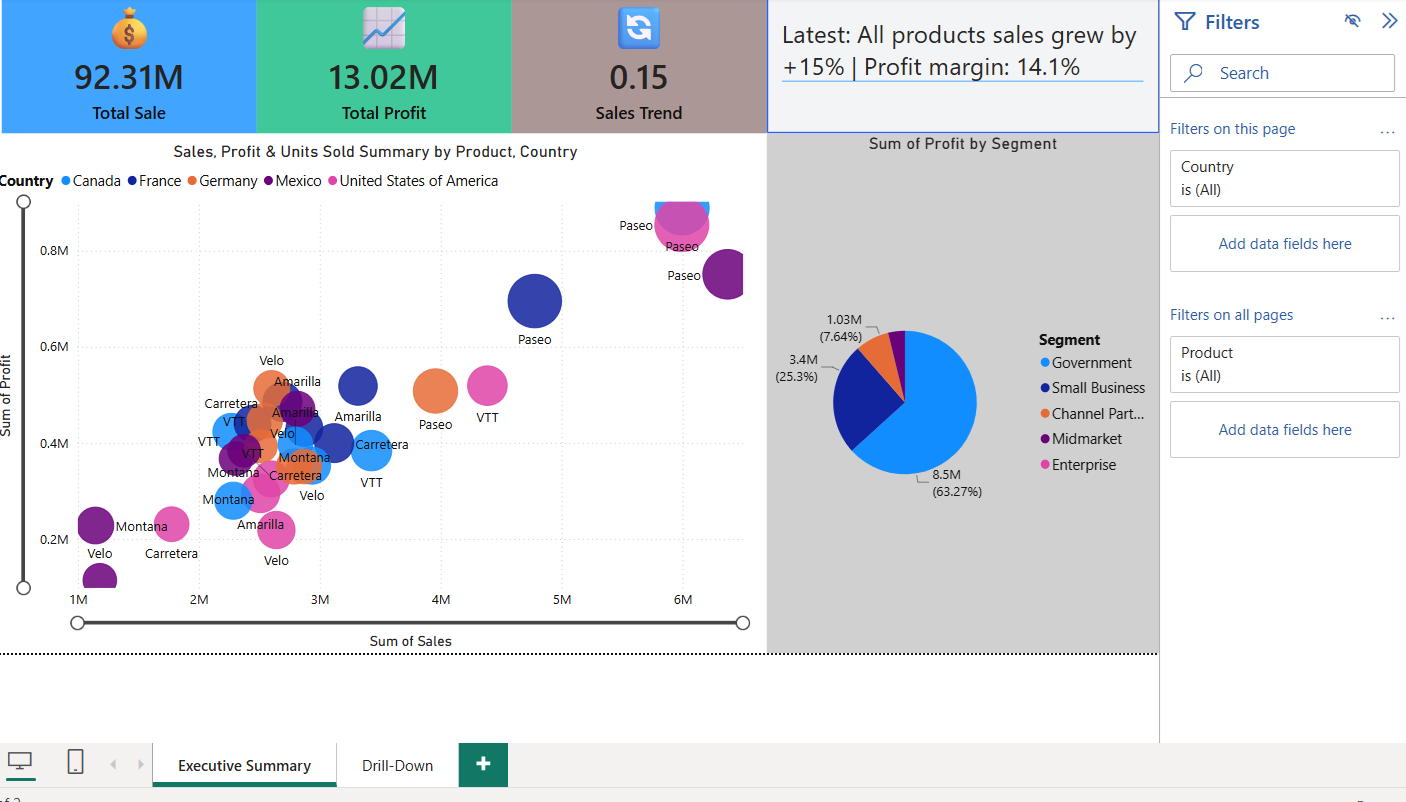

The page's visual inventory and layout, read from the dashboard file:
{"tool":"powerbi","page":{"name":"Executive Summary","canvas":[1280,720],"ordinal":0},"visuals":[{"type":"card","title":"💰","fields":{"Values":["financials.Total Sale"]},"box":[9.6,0,279.9,149.6],"z":0},{"type":"card","title":"📈","fields":{"Values":["financials.Total Profit"]},"box":[289.5,0,279.9,149.6],"z":1000},{"type":"card","title":"🔄","fields":{"Values":["financials.Sales Trend"]},"box":[569.5,0,279.9,149.6],"z":2000},{"type":"scatterChart","title":"Sales, Profit & Units Sold Summary by Product, Country ","fields":{"X":["Sum(financials. Sales)"],"Y":["Sum(financials.Profit)"],"Category":["financials.Product"],"Size":["Sum(financials.Units Sold)"],"Series":["financials.Country"]},"box":[9.6,159.2,839.8,561.2],"z":3000},{"type":"actionButton","box":[0,0,100,40],"z":4000},{"type":"textbox","box":[849.4,0,430.9,149.6],"z":5000},{"type":"pieChart","fields":{"Y":["Sum(financials.Profit)"],"Category":["financials.Segment"]},"box":[849.4,149.6,430.9,570.8],"z":6000}]}

Visuals, with their boxes on the page's 1280x720 design canvas (x1, y1, x2, y2). These are canvas units, not pixel positions in the 1406x802 screenshot, which may show the page scaled, cropped or inside an application window:
"💰" card: select_region(10, 0, 290, 150)
"📈" card: select_region(290, 0, 569, 150)
"🔄" card: select_region(570, 0, 849, 150)
"Sales, Profit & Units Sold Summary by Product, Country " scatterChart: select_region(10, 159, 849, 720)
actionButton: select_region(0, 0, 100, 40)
textbox: select_region(849, 0, 1280, 150)
pieChart - Sum(financials.Profit) x financials.Segment: select_region(849, 150, 1280, 720)
